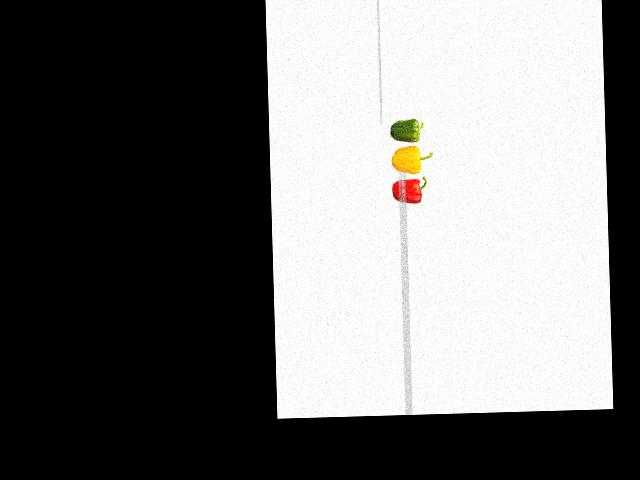bell_pepper: (387, 115, 429, 142)
